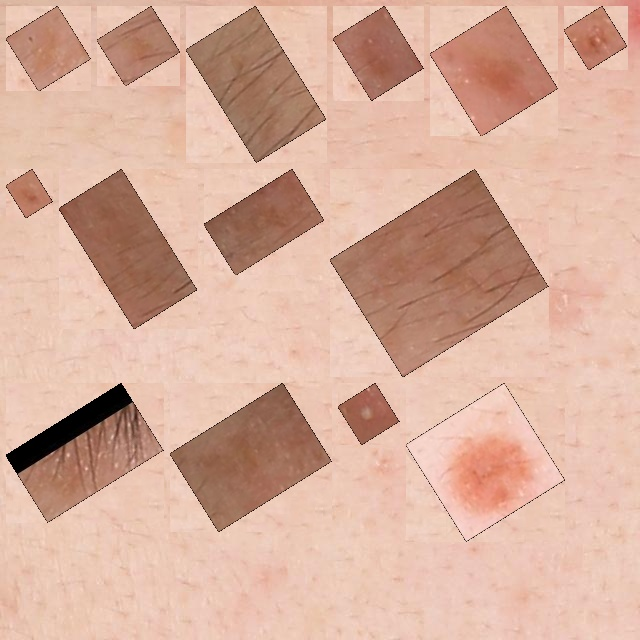melasma: (341, 180, 537, 366), (181, 394, 321, 520), (70, 180, 186, 318), (197, 17, 315, 151), (17, 394, 152, 511), (441, 17, 547, 125), (215, 180, 313, 264), (344, 17, 412, 89), (17, 17, 80, 80), (108, 17, 169, 75), (575, 17, 616, 59), (17, 180, 41, 207)
nevus: (417, 394, 554, 530)
pustule: (349, 394, 388, 433)
